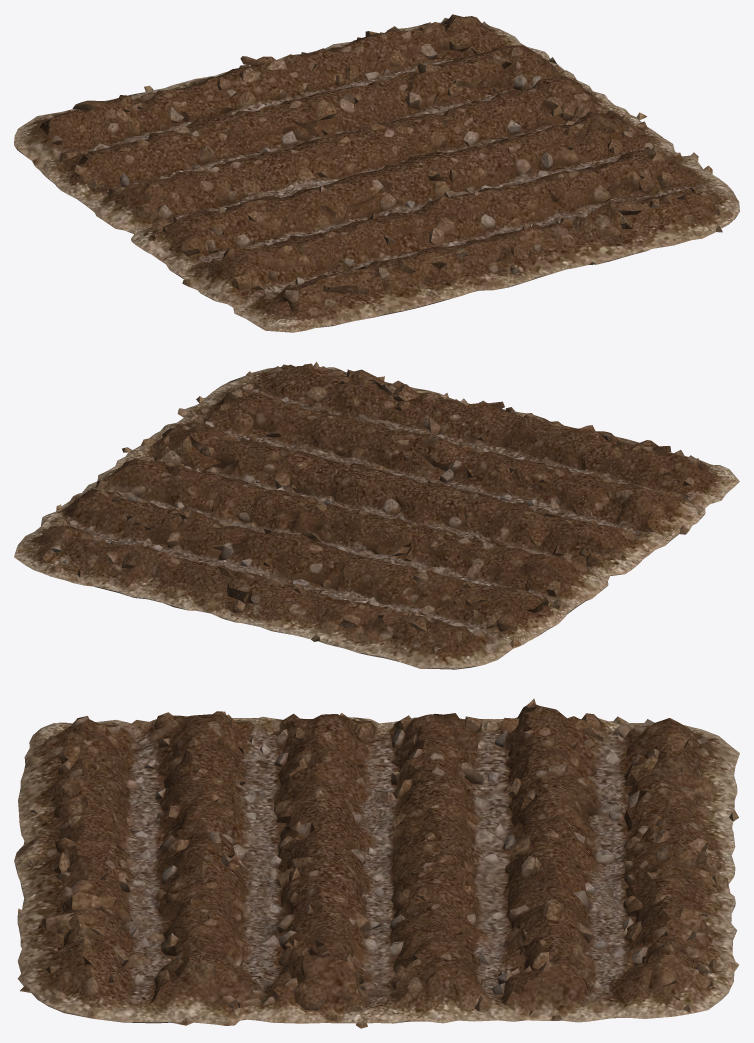
File: farmland_lite.glb
3 renders of one model, top to bottom at view 1: azimuth 30°, elevation 25°; view 2: azimuth 150°, elevation 25°; view 3: azimuth 270°, elevation 25°, orthographic. The views are drawn at different scales.
Visible parts, largest first — view 1: geometry_0; view 2: geometry_0; view 3: geometry_0.
Part boxes in pixels (box(x1,y1,x2,y2)): geometry_0: box(14, 14, 739, 332); geometry_0: box(14, 361, 739, 669); geometry_0: box(14, 698, 739, 1028).
Bounding box in the file's own units: 1.87 × 0.1152 × 1.83.
1 material, 1 textured.
